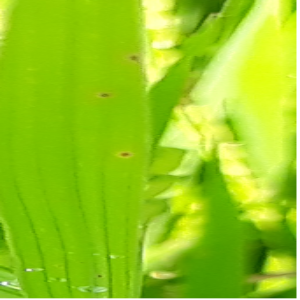Brown_Spot: (111, 144, 138, 164), (42, 274, 71, 286), (96, 87, 116, 103), (123, 50, 144, 64), (21, 263, 45, 275), (94, 271, 107, 281)
